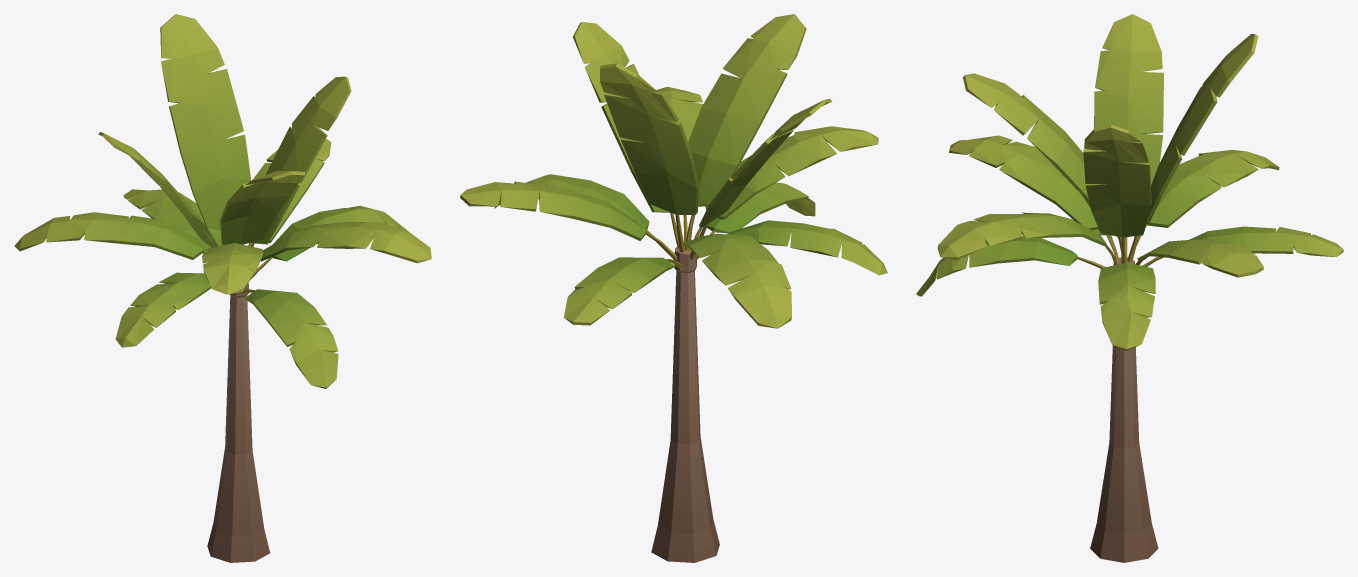
The model's file is BananaTree_01.fbx.
3 renders of one model, left to right at view 1: azimuth 30°, elevation 25°; view 2: azimuth 150°, elevation 25°; view 3: azimuth 270°, elevation 25°, orthographic. The views are drawn at different scales.
Visible parts, largest first — view 1: BananaTree_01_LOD0; view 2: BananaTree_01_LOD0; view 3: BananaTree_01_LOD0.
Boxes of the visible parts, <box> form: BananaTree_01_LOD0: <box>14,14,431,562</box>; BananaTree_01_LOD0: <box>460,14,887,562</box>; BananaTree_01_LOD0: <box>916,14,1343,562</box>.
Size of what is drawn, in the model's own units: 1.84 by 2.61 by 1.97.
